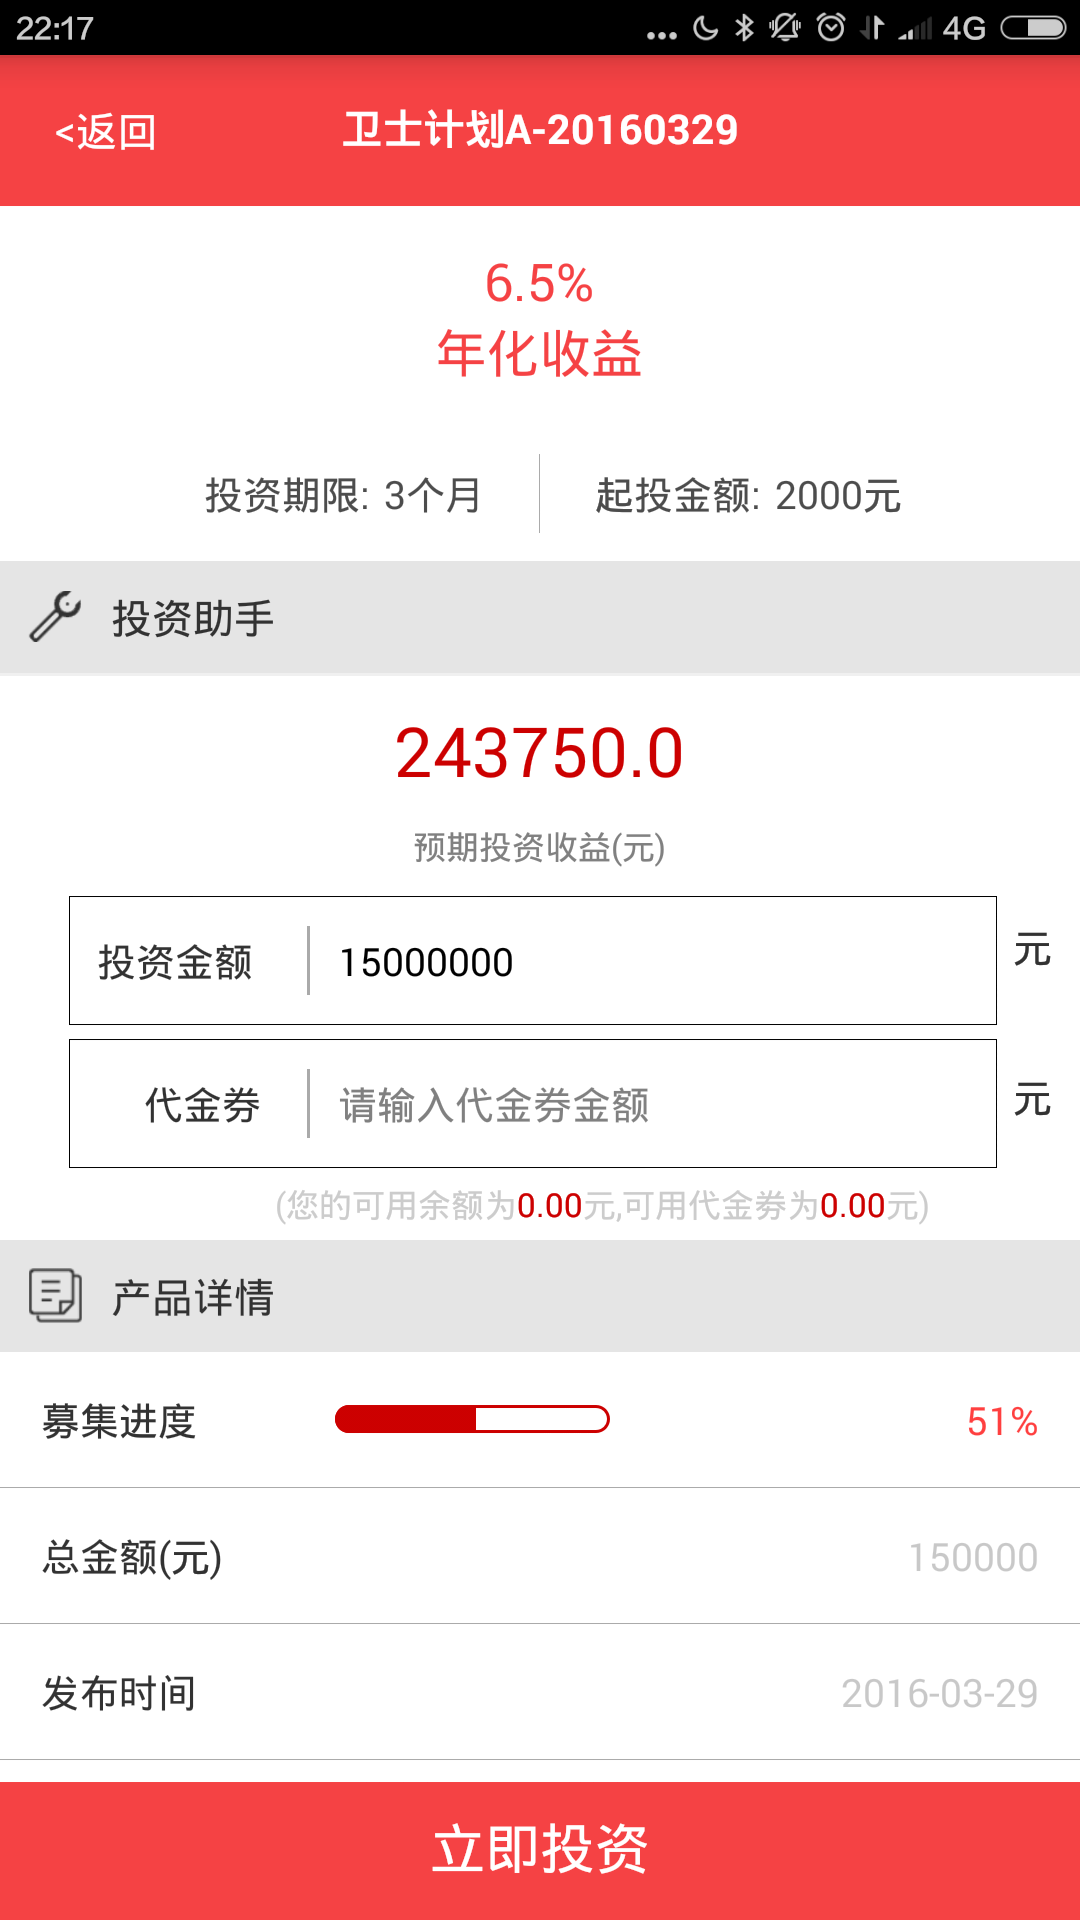button: (8, 1772, 1080, 1915)
textview: (11, 208, 1080, 546), (55, 887, 1063, 1178)
